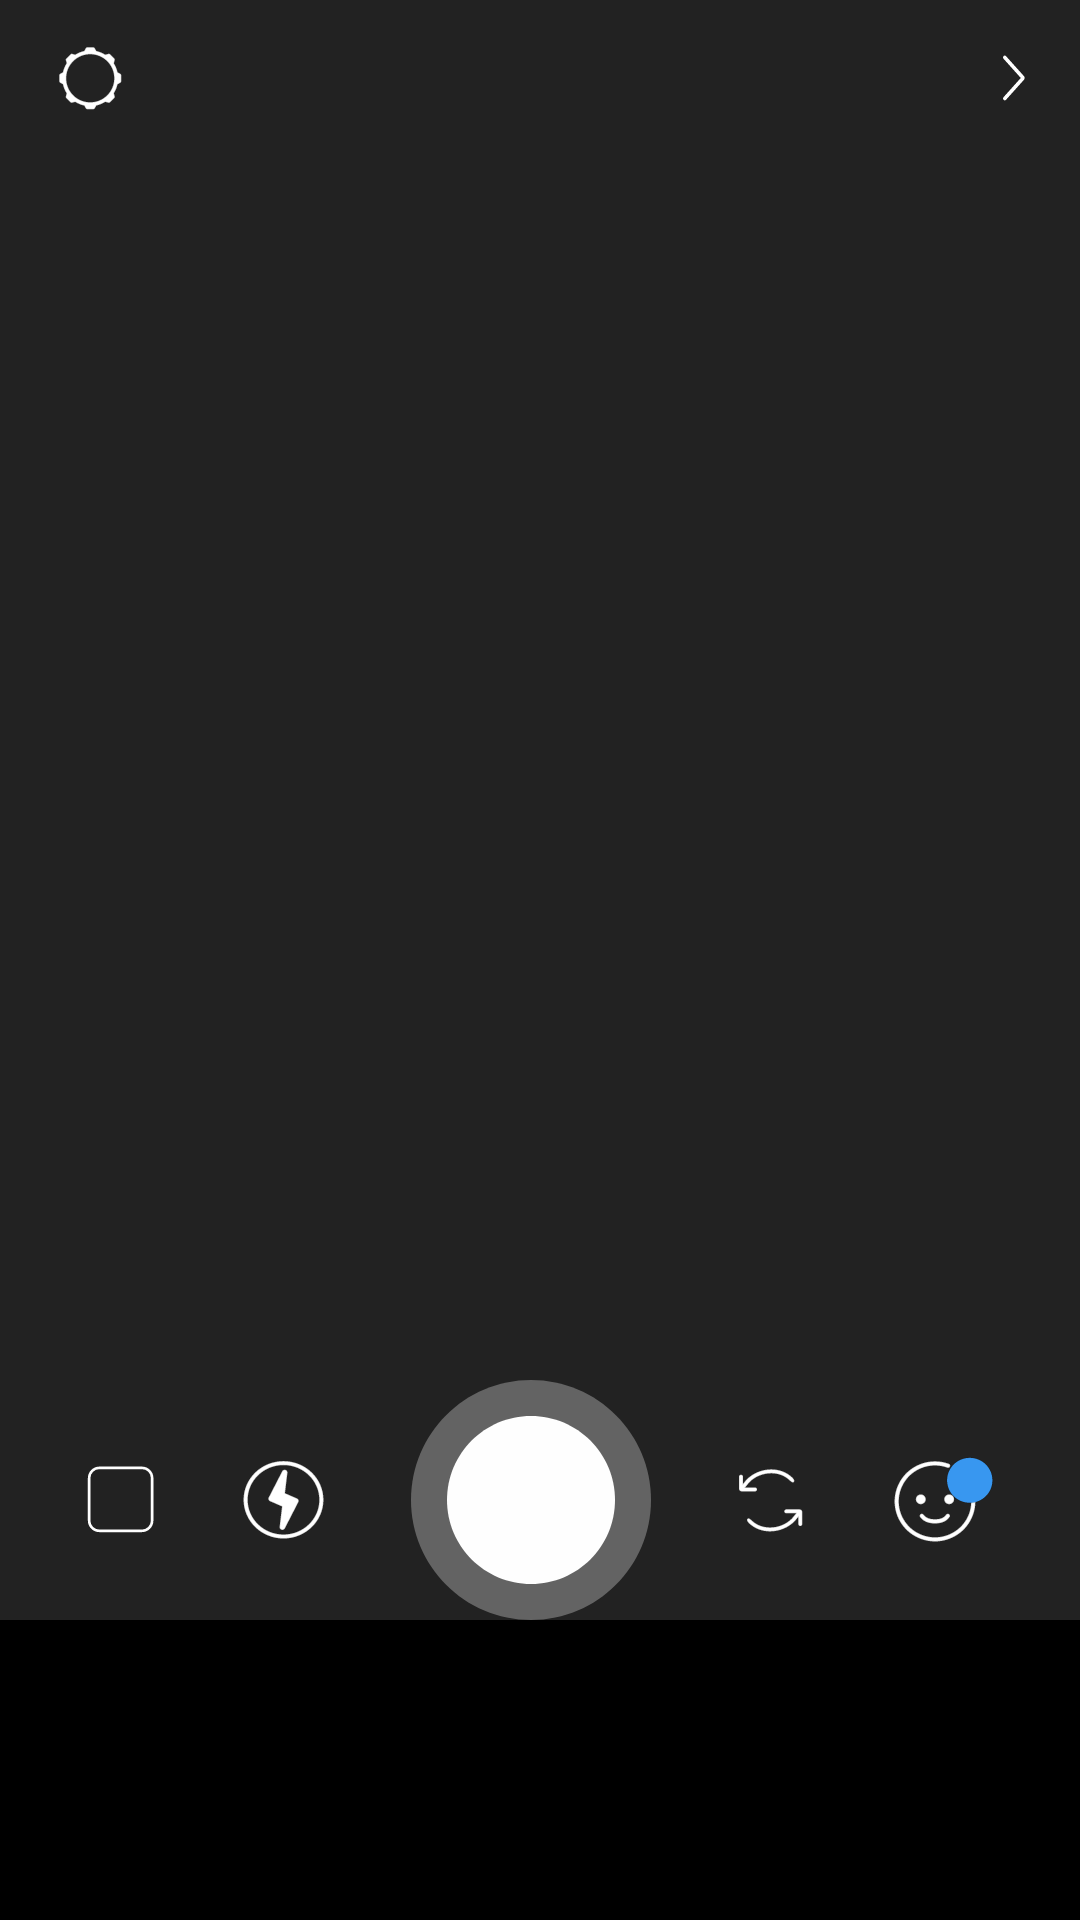

Point at icon controls on the screen. Image size 1080x1920, points as [x,y].
change camera: [771,1500]
face masks: [943,1499]
settings: [90,78]
shot: [531,1500]
